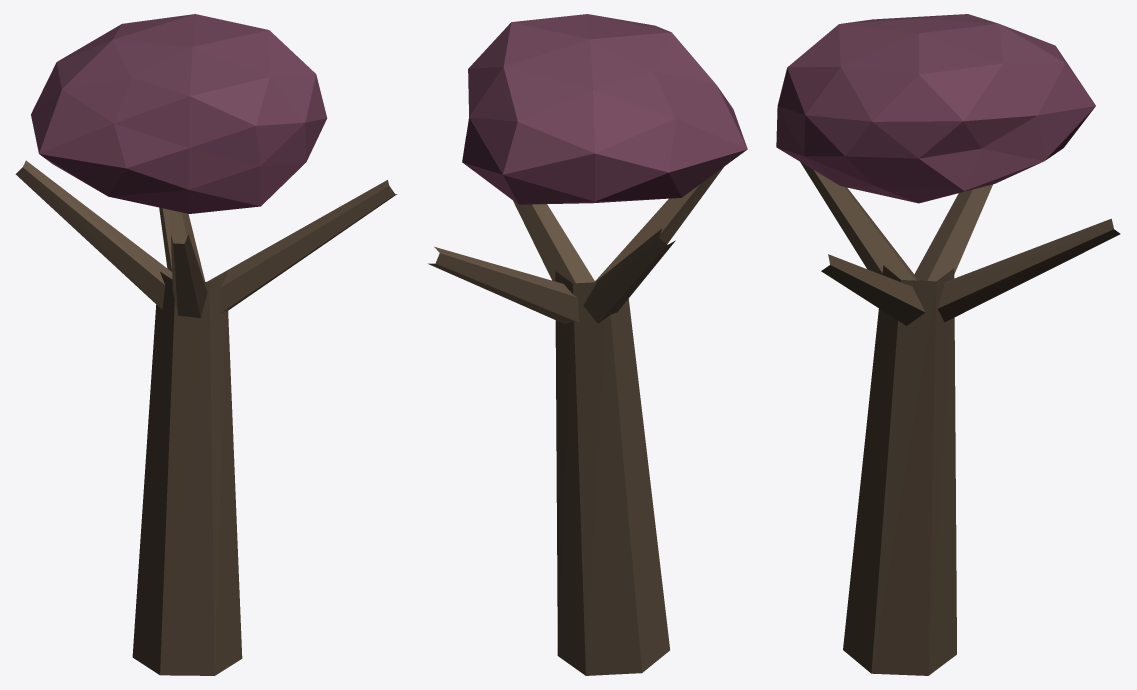
The model's file is 1971-Forest-trees-painted-woods-ipePink-1.glb.
3 renders of one model, left to right at view 1: azimuth 30°, elevation 25°; view 2: azimuth 150°, elevation 25°; view 3: azimuth 270°, elevation 25°, orthographic. The views are drawn at different scales.
Visible parts, largest first — view 1: Forest trees (painted woods)/ipePink/1; view 2: Forest trees (painted woods)/ipePink/1; view 3: Forest trees (painted woods)/ipePink/1.
Boxes of the visible parts, bbox=[...] form: Forest trees (painted woods)/ipePink/1: bbox=[15, 14, 396, 675]; Forest trees (painted woods)/ipePink/1: bbox=[428, 14, 747, 675]; Forest trees (painted woods)/ipePink/1: bbox=[776, 14, 1120, 675].
Size of the model in its own units: 0.3597 by 0.6656 by 0.3321.
